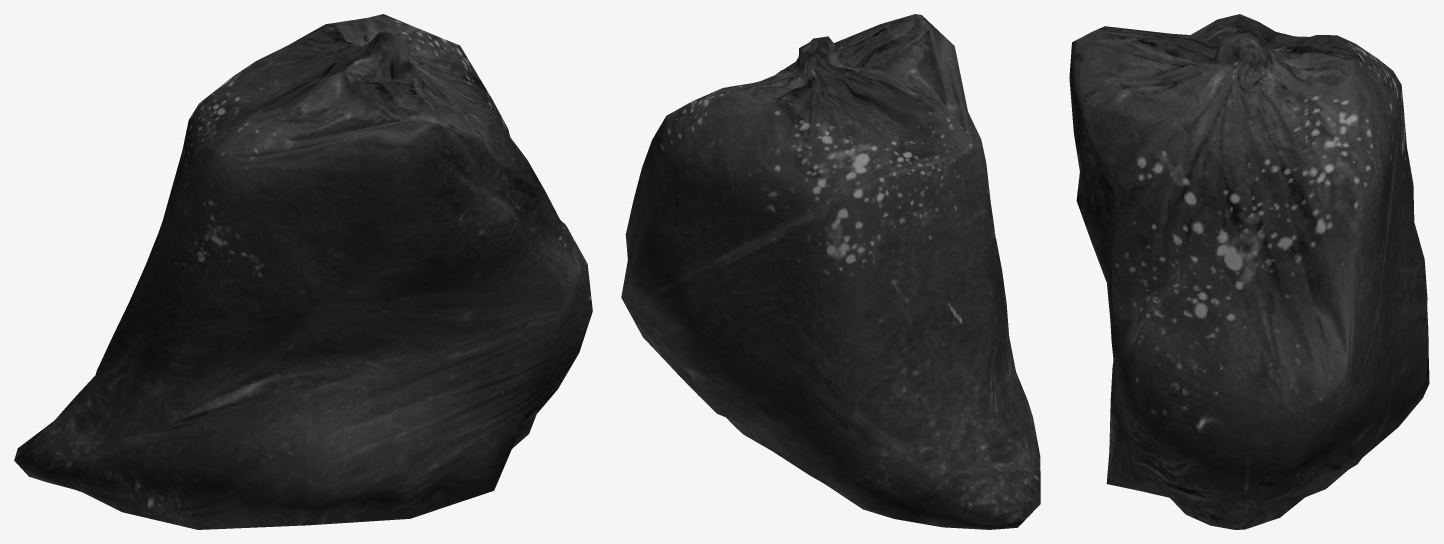
File: trash_bag_4.fbx
3 renders of one model, left to right at view 1: azimuth 30°, elevation 25°; view 2: azimuth 150°, elevation 25°; view 3: azimuth 270°, elevation 25°, orthographic. The views are drawn at different scales.
Visible parts, largest first — view 1: trash_bag_4; view 2: trash_bag_4; view 3: trash_bag_4.
Boxes of the visible parts, x1,y1,x2,y2 form: trash_bag_4: (14,14,592,529); trash_bag_4: (621,14,1040,529); trash_bag_4: (1069,14,1429,529).
Size of the model in its own units: 107 by 90.32 by 65.33.
